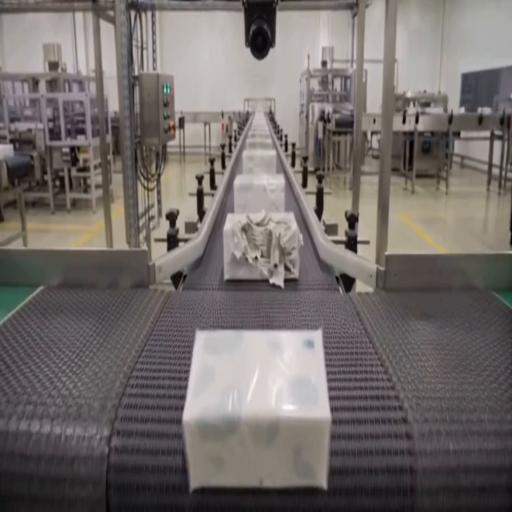defective: (223, 209, 303, 283)
good: (184, 327, 330, 493), (232, 172, 285, 216), (242, 149, 278, 179), (244, 130, 274, 151), (0, 143, 14, 162)
